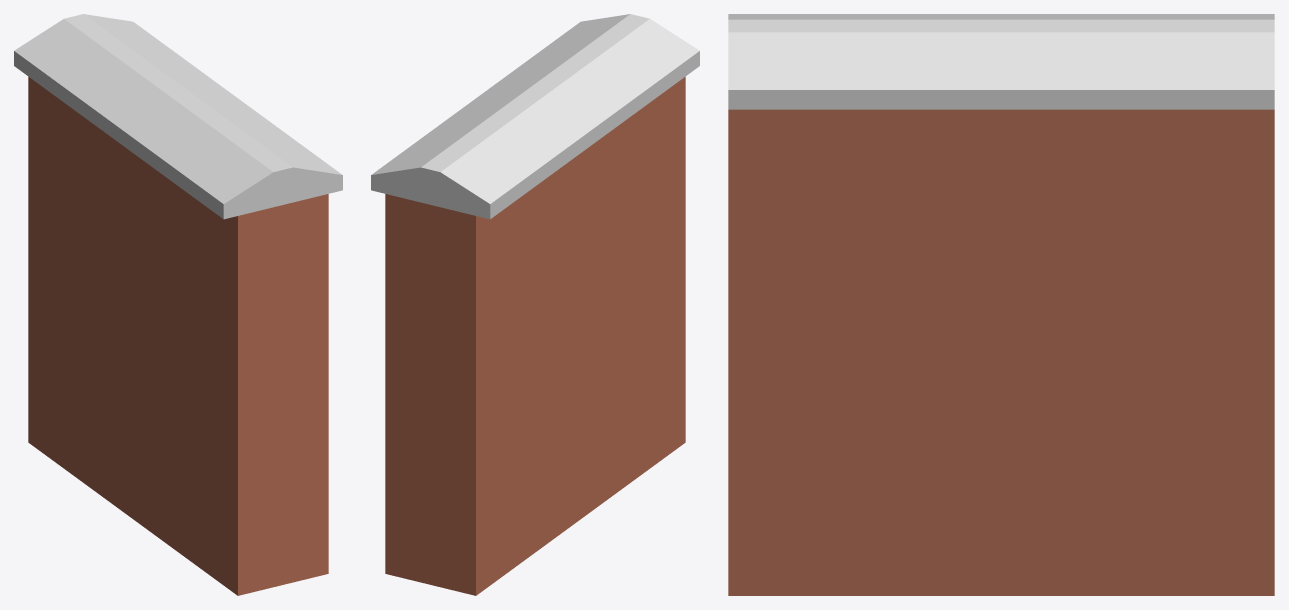
The model's file is brick_wall_01.fbx.
3 renders of one model, left to right at view 1: azimuth 30°, elevation 25°; view 2: azimuth 150°, elevation 25°; view 3: azimuth 270°, elevation 25°, orthographic. The views are drawn at different scales.
Parts seen in each view (by area): view 1: BrickWall_01; view 2: BrickWall_01; view 3: BrickWall_01.
Part boxes in pixels (x1,y1,x2,y2): BrickWall_01: (14,14,342,595); BrickWall_01: (371,14,699,595); BrickWall_01: (728,14,1274,595).
Size of the model in its own units: 65.67 by 218 by 200.
